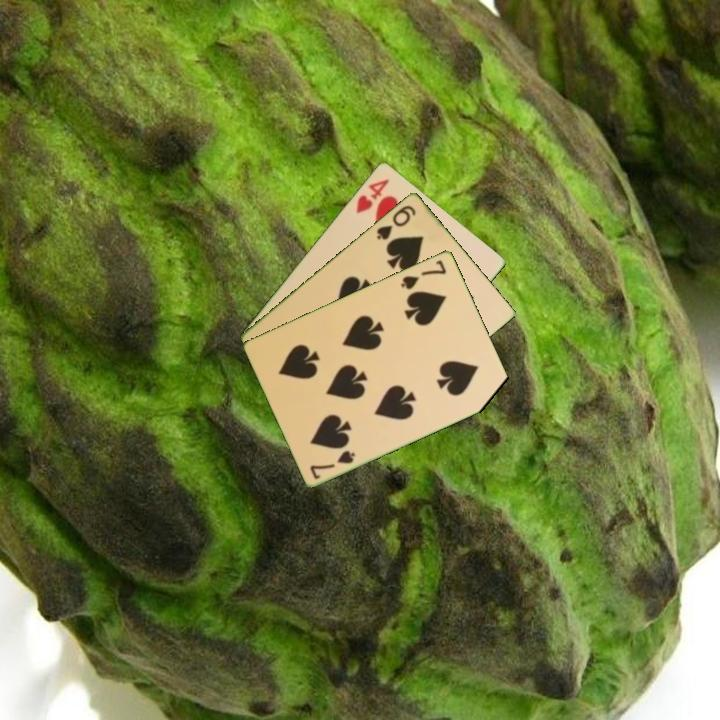4h: (352, 175, 392, 216)
6s: (373, 201, 419, 243)
7s: (306, 446, 359, 482), (397, 256, 449, 292)
